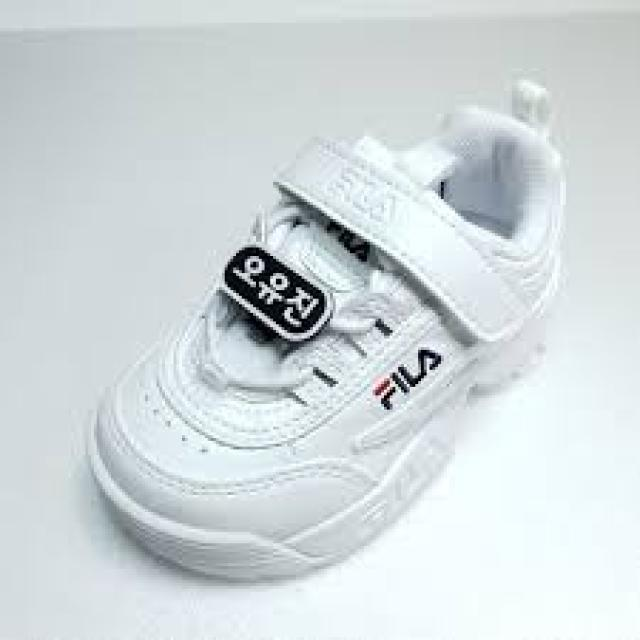shoe: (65, 84, 590, 586)
